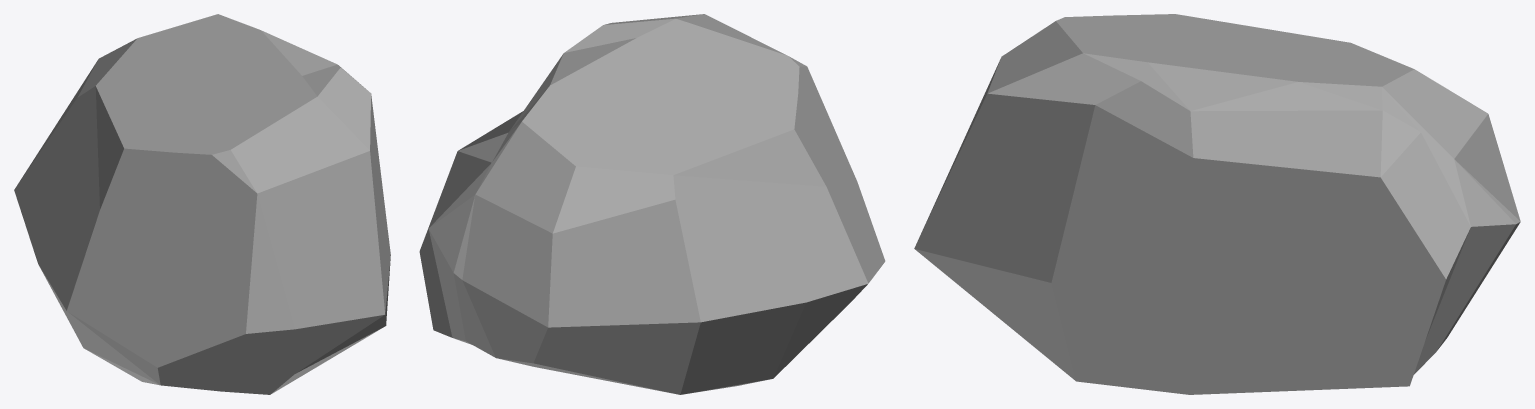
File: HardRock_03.fbx
3 renders of one model, left to right at view 1: azimuth 30°, elevation 25°; view 2: azimuth 150°, elevation 25°; view 3: azimuth 270°, elevation 25°, orthographic. The views are drawn at different scales.
Visible parts, largest first — view 1: HardRock_03; view 2: HardRock_03; view 3: HardRock_03.
Part boxes in pixels (x1=…): HardRock_03: x1=14, y1=14, x2=390, y2=394; HardRock_03: x1=419, y1=14, x2=885, y2=394; HardRock_03: x1=914, y1=14, x2=1520, y2=394.
Size of the model in its own units: 84.75 by 72.5 by 116.
